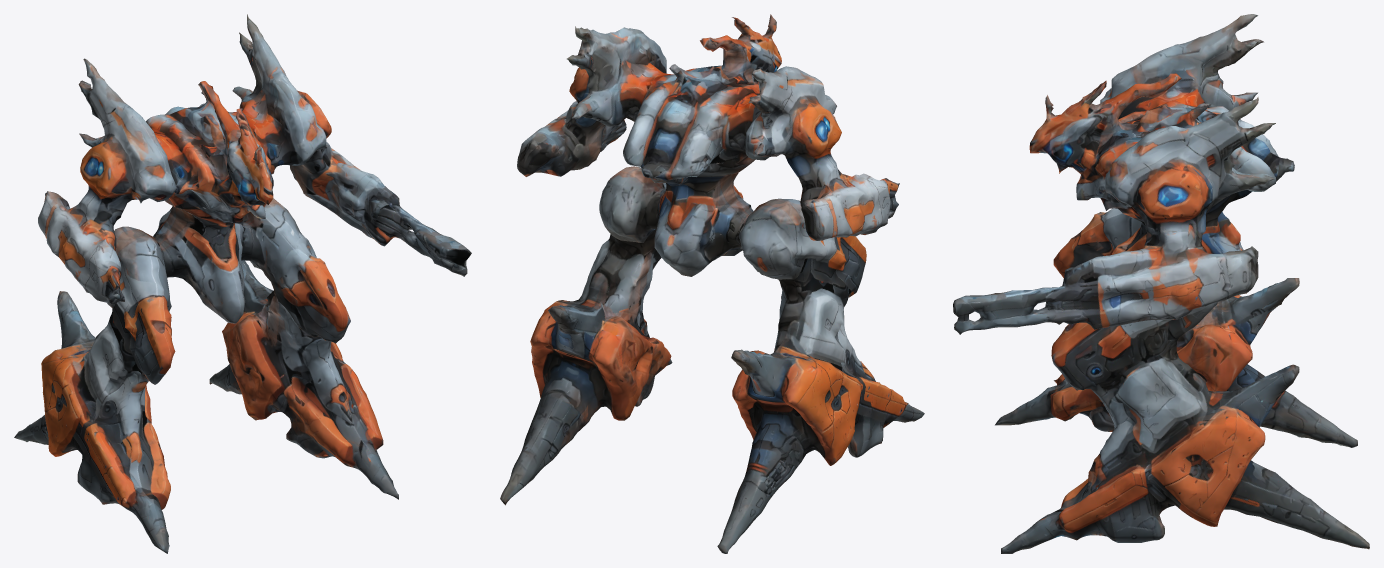
Rendered from mech_armored_core_6__0708210313_refine.fbx.
The picture shows the model from 3 angles, left to right: view 1: azimuth 30°, elevation 25°; view 2: azimuth 150°, elevation 25°; view 3: azimuth 270°, elevation 25°; orthographic projection. The views are drawn at different scales.
Visible parts, largest first — view 1: Mesh_0; view 2: Mesh_0; view 3: Mesh_0.
Boxes of the visible parts, x1,y1,x2,y2 form: Mesh_0: [14, 14, 471, 553]; Mesh_0: [500, 14, 924, 553]; Mesh_0: [953, 14, 1369, 553].
Bounding box in the file's own units: 94.43 × 120 × 102.
Materials: 1 (1 with a texture image).
